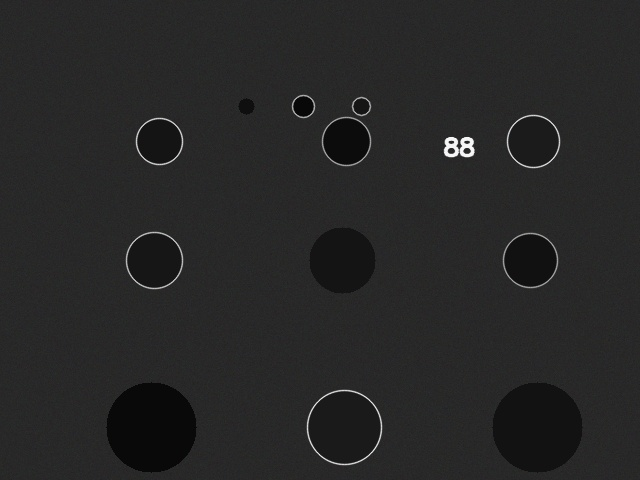hole: (106, 382, 196, 472), (492, 382, 582, 472), (307, 390, 381, 464), (309, 227, 375, 293), (126, 232, 182, 288), (503, 233, 557, 287), (507, 115, 559, 167), (322, 117, 370, 165), (136, 118, 182, 164), (292, 95, 314, 117), (352, 97, 370, 115), (238, 98, 254, 114)
